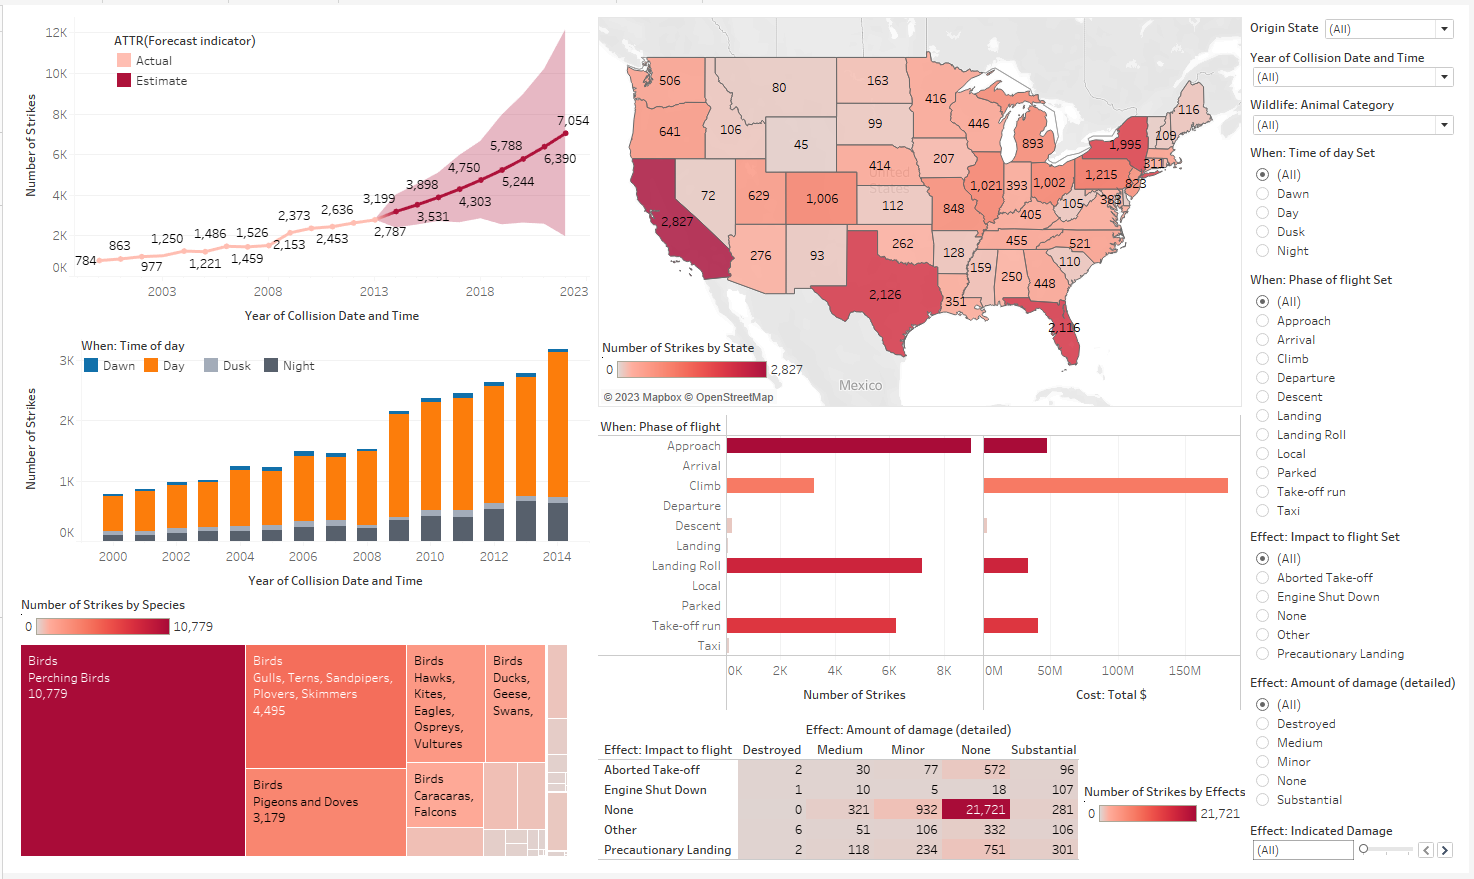

This screenshot's page, from the dashboard's own definition file:
{"tool":"tableau","page":{"name":"Dashboard 1","canvas":[1466,868],"ordinal":0},"visuals":[{"type":"worksheet","title":"Forecast Line: Number of Strikes by Year of Collision","mark":"Automatic","rows":["Number of Strikes"],"cols":["Collision Date and Time"],"box":[8,8,583,322]},{"type":"worksheet","title":"Map: Number of Strikes by State","mark":"Multipolygon","box":[591,8,652,398]},{"type":"filter","title":"Map: Number of Strikes by State","param":"[federated.0t208vn1h8y5d112wt3ro03kgdnl].[none:Origin State:nk]","box":[1243,8,215,32]},{"type":"legend","title":"Forecast Line: Number of Strikes by Year of Collision","param":"[federated.0t208vn1h8y5d112wt3ro03kgdnl].[attr:Forecast Indicator:nk]","box":[110.5,27.1,152.4,65.6]},{"type":"filter","title":"Stacked Bar: Number of Strikes by Year of Collision for varying Time of Day","param":"[federated.0t208vn1h8y5d112wt3ro03kgdnl].[yr:Collision Date and Time:ok]","box":[1243,40,215,47]},{"type":"filter","title":"Forecast Line: Number of Strikes by Year of Collision","param":"[federated.0t208vn1h8y5d112wt3ro03kgdnl].[none:Wildlife: Animal Category:nk]","box":[1243,87,215,48]},{"type":"filter","title":"Stacked Bar: Number of Strikes by Year of Collision for varying Time of Day","param":"[federated.0t208vn1h8y5d112wt3ro03kgdnl].[When: Time of day Set]","box":[1243,135,215,127]},{"type":"filter","title":"Horizontal Bar: Phase of Flight by Number of Strikes and Total Cost","param":"[federated.0t208vn1h8y5d112wt3ro03kgdnl].[When: Phase of flight Set]","box":[1243,262,215,257]},{"type":"worksheet","title":"Stacked Bar: Number of Strikes by Year of Collision for varying Time of Day","mark":"Bar","rows":["Number of Strikes"],"cols":["Collision Date and Time"],"box":[8,330,583,265]},{"type":"legend","title":"Stacked Bar: Number of Strikes by Year of Collision for varying Time of Day","param":"[federated.0t208vn1h8y5d112wt3ro03kgdnl].[none:When: Time of day:nk]","box":[78,332,246,42]},{"type":"legend","title":"Map: Number of Strikes by State","param":"[federated.0t208vn1h8y5d112wt3ro03kgdnl].[sum:Number of Strikes:qk]","box":[599,334,206,50]},{"type":"worksheet","title":"Horizontal Bar: Phase of Flight by Number of Strikes and Total Cost","mark":"Automatic","rows":[" Phase of flight"],"cols":["Number of Strikes"," Total $"],"box":[591,406,652,304]},{"type":"filter","title":"Hightlight Table: Number of Strikes by Effects","param":"[federated.0t208vn1h8y5d112wt3ro03kgdnl].[Effect: Impact to flight Set]","box":[1243,519,215,146]},{"type":"legend","title":"Treemap: Number of Strikes by Species","param":"[federated.0t208vn1h8y5d112wt3ro03kgdnl].[sum:Number of Strikes:qk]","box":[18,591,197,51]},{"type":"blank","box":[8,595,583,35]},{"type":"worksheet","title":"Treemap: Number of Strikes by Species","mark":"Automatic","box":[8,630,583,230]},{"type":"filter","title":"Hightlight Table: Number of Strikes by Effects","param":"[federated.0t208vn1h8y5d112wt3ro03kgdnl].[none:Effect: Amount of damage (detaile","box":[1243,665,215,148]},{"type":"worksheet","title":"Hightlight Table: Number of Strikes by Effects","mark":"Square","rows":[" Impact to flight"],"cols":[" Amount of damage (detailed)"],"box":[591,710,652,150]},{"type":"legend","title":"Hightlight Table: Number of Strikes by Effects","param":"[federated.0t208vn1h8y5d112wt3ro03kgdnl].[sum:Number of Strikes:qk]","box":[1081,778,161,49]},{"type":"filter","title":"Hightlight Table: Number of Strikes by Effects","param":"[federated.0t208vn1h8y5d112wt3ro03kgdnl].[none:Effect: Indicated Damage:nk]","box":[1243,813,215,47]}]}

Visuals, with their boxes in screenshot pixels (x1, y1, x2, y2), scaled from the page's 1466x868 canvas onto the 1474x879 screenshot:
"Forecast Line: Number of Strikes by Year of Collision" worksheet: detection(8, 8, 594, 334)
"Map: Number of Strikes by State" worksheet (Multipolygon marks): detection(594, 8, 1250, 411)
"Map: Number of Strikes by State" filter: detection(1250, 8, 1466, 41)
"Forecast Line: Number of Strikes by Year of Collision" legend: detection(111, 27, 264, 94)
"Stacked Bar: Number of Strikes by Year of Collision for varying Time of Day" filter: detection(1250, 41, 1466, 88)
"Forecast Line: Number of Strikes by Year of Collision" filter: detection(1250, 88, 1466, 137)
"Stacked Bar: Number of Strikes by Year of Collision for varying Time of Day" filter: detection(1250, 137, 1466, 265)
"Horizontal Bar: Phase of Flight by Number of Strikes and Total Cost" filter: detection(1250, 265, 1466, 526)
"Stacked Bar: Number of Strikes by Year of Collision for varying Time of Day" worksheet (Bar marks): detection(8, 334, 594, 603)
"Stacked Bar: Number of Strikes by Year of Collision for varying Time of Day" legend: detection(78, 336, 326, 379)
"Map: Number of Strikes by State" legend: detection(602, 338, 809, 389)
"Horizontal Bar: Phase of Flight by Number of Strikes and Total Cost" worksheet: detection(594, 411, 1250, 719)
"Hightlight Table: Number of Strikes by Effects" filter: detection(1250, 526, 1466, 673)
"Treemap: Number of Strikes by Species" legend: detection(18, 598, 216, 650)
blank: detection(8, 603, 594, 638)
"Treemap: Number of Strikes by Species" worksheet: detection(8, 638, 594, 871)
"Hightlight Table: Number of Strikes by Effects" filter: detection(1250, 673, 1466, 823)
"Hightlight Table: Number of Strikes by Effects" worksheet (Square marks): detection(594, 719, 1250, 871)
"Hightlight Table: Number of Strikes by Effects" legend: detection(1087, 788, 1249, 837)
"Hightlight Table: Number of Strikes by Effects" filter: detection(1250, 823, 1466, 871)
